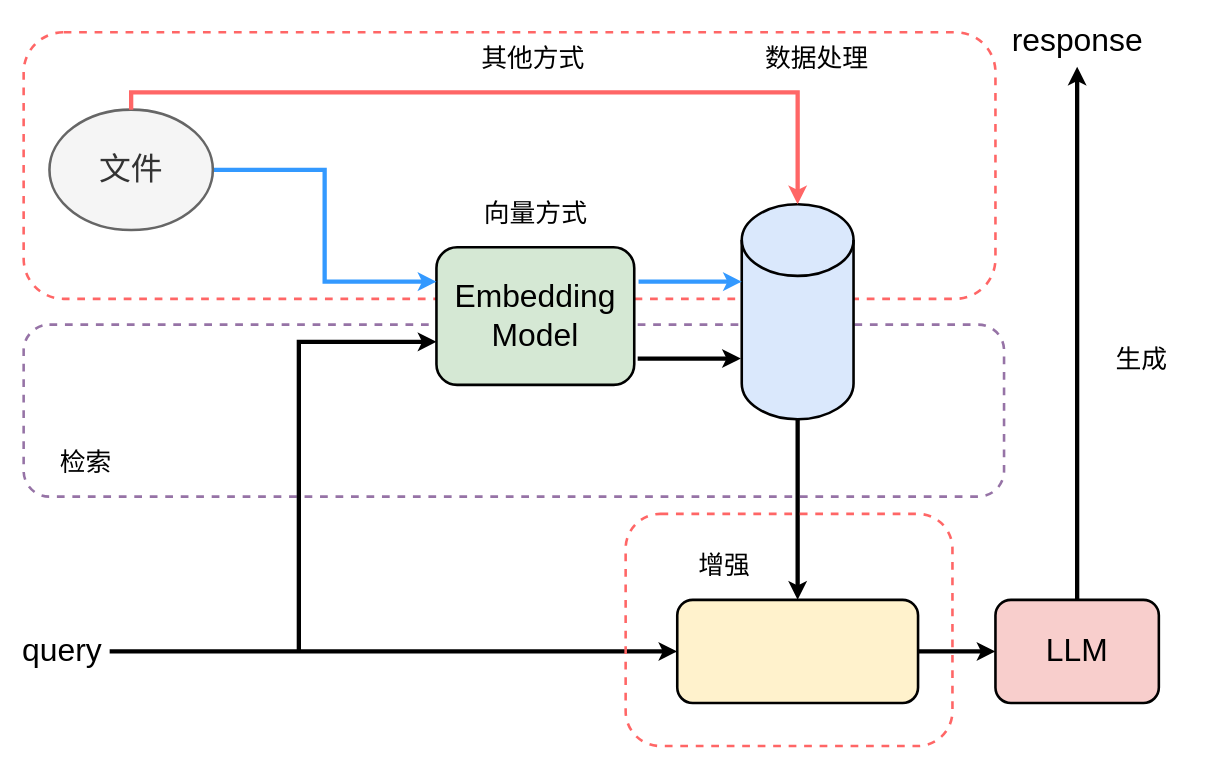
Some shapes in this 1207 by 762 pixel diagram are drawn without their labels. Each missing label, with the centre of its shape:
prompt context: point (797, 651)
数据库: point (797, 311)
